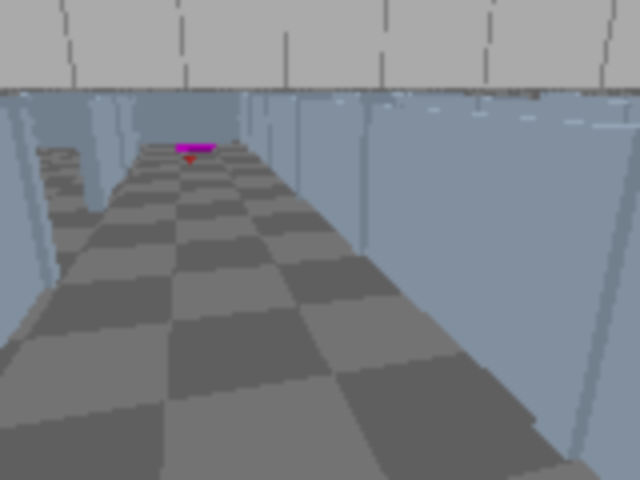goal_zone: (175, 145, 217, 151)
